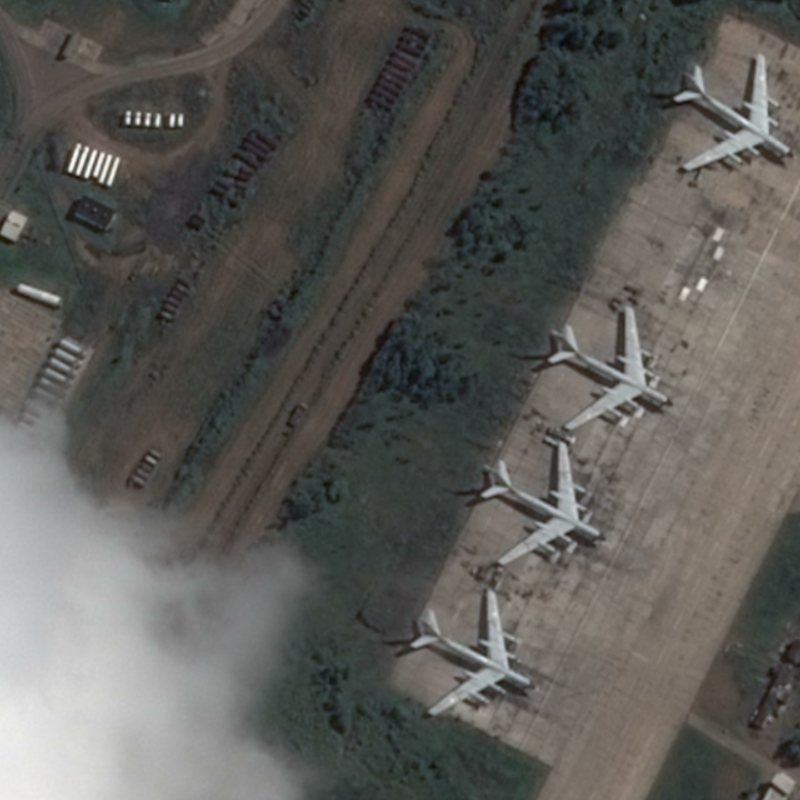A17: (403, 583, 539, 720), (541, 301, 677, 436), (474, 439, 610, 569), (668, 51, 796, 178)
